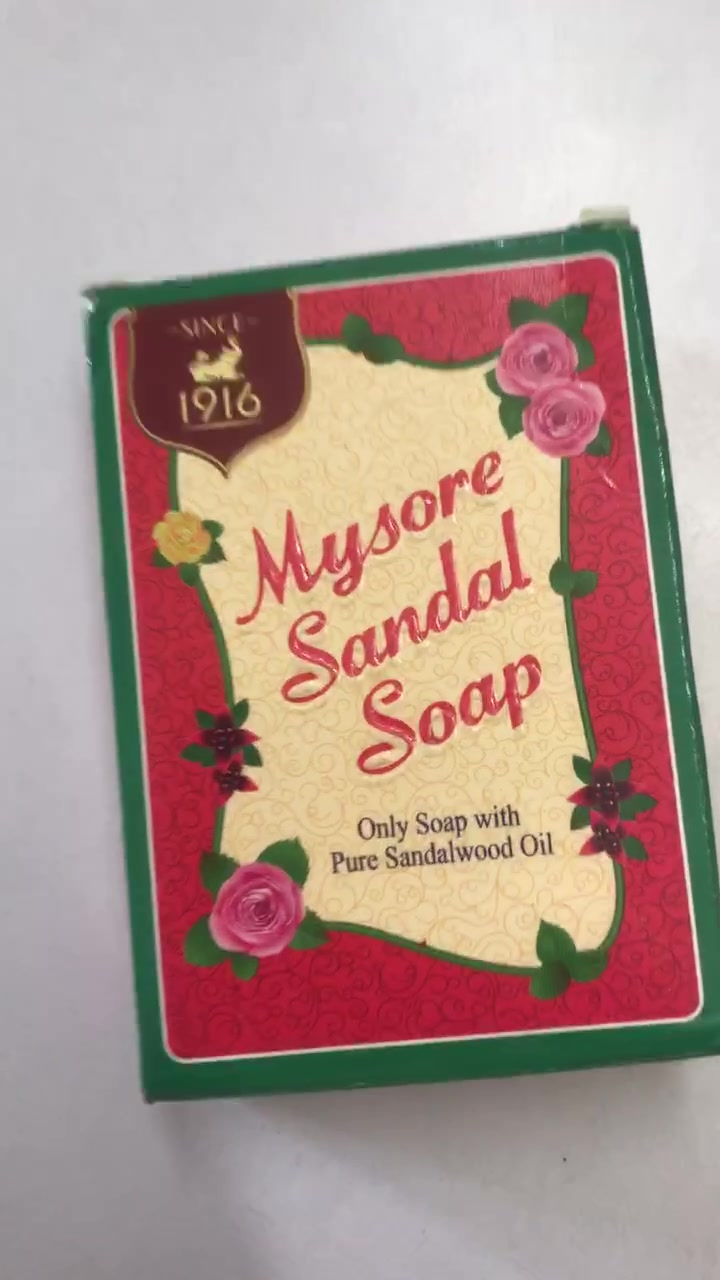mysore sandal soap: (83, 224, 720, 1112)
